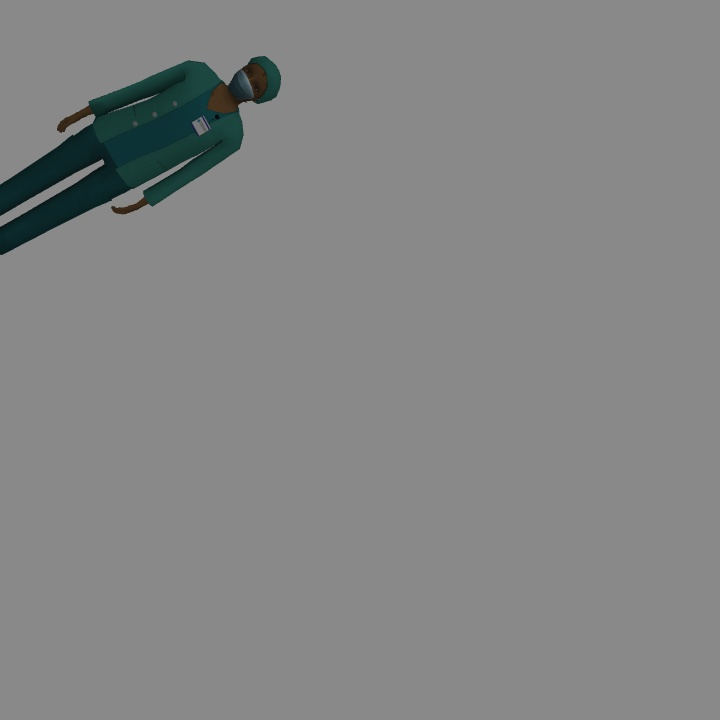victim: (1, 56, 281, 257)
